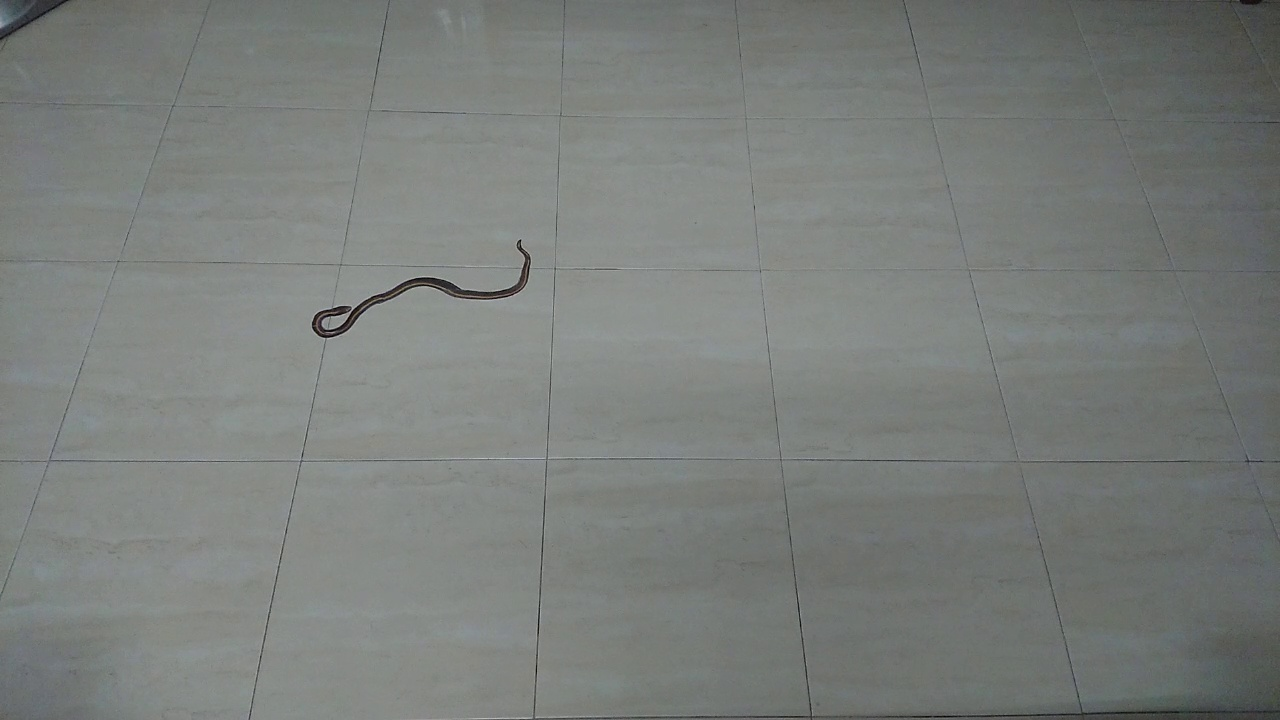snake: (286, 218, 550, 345)
